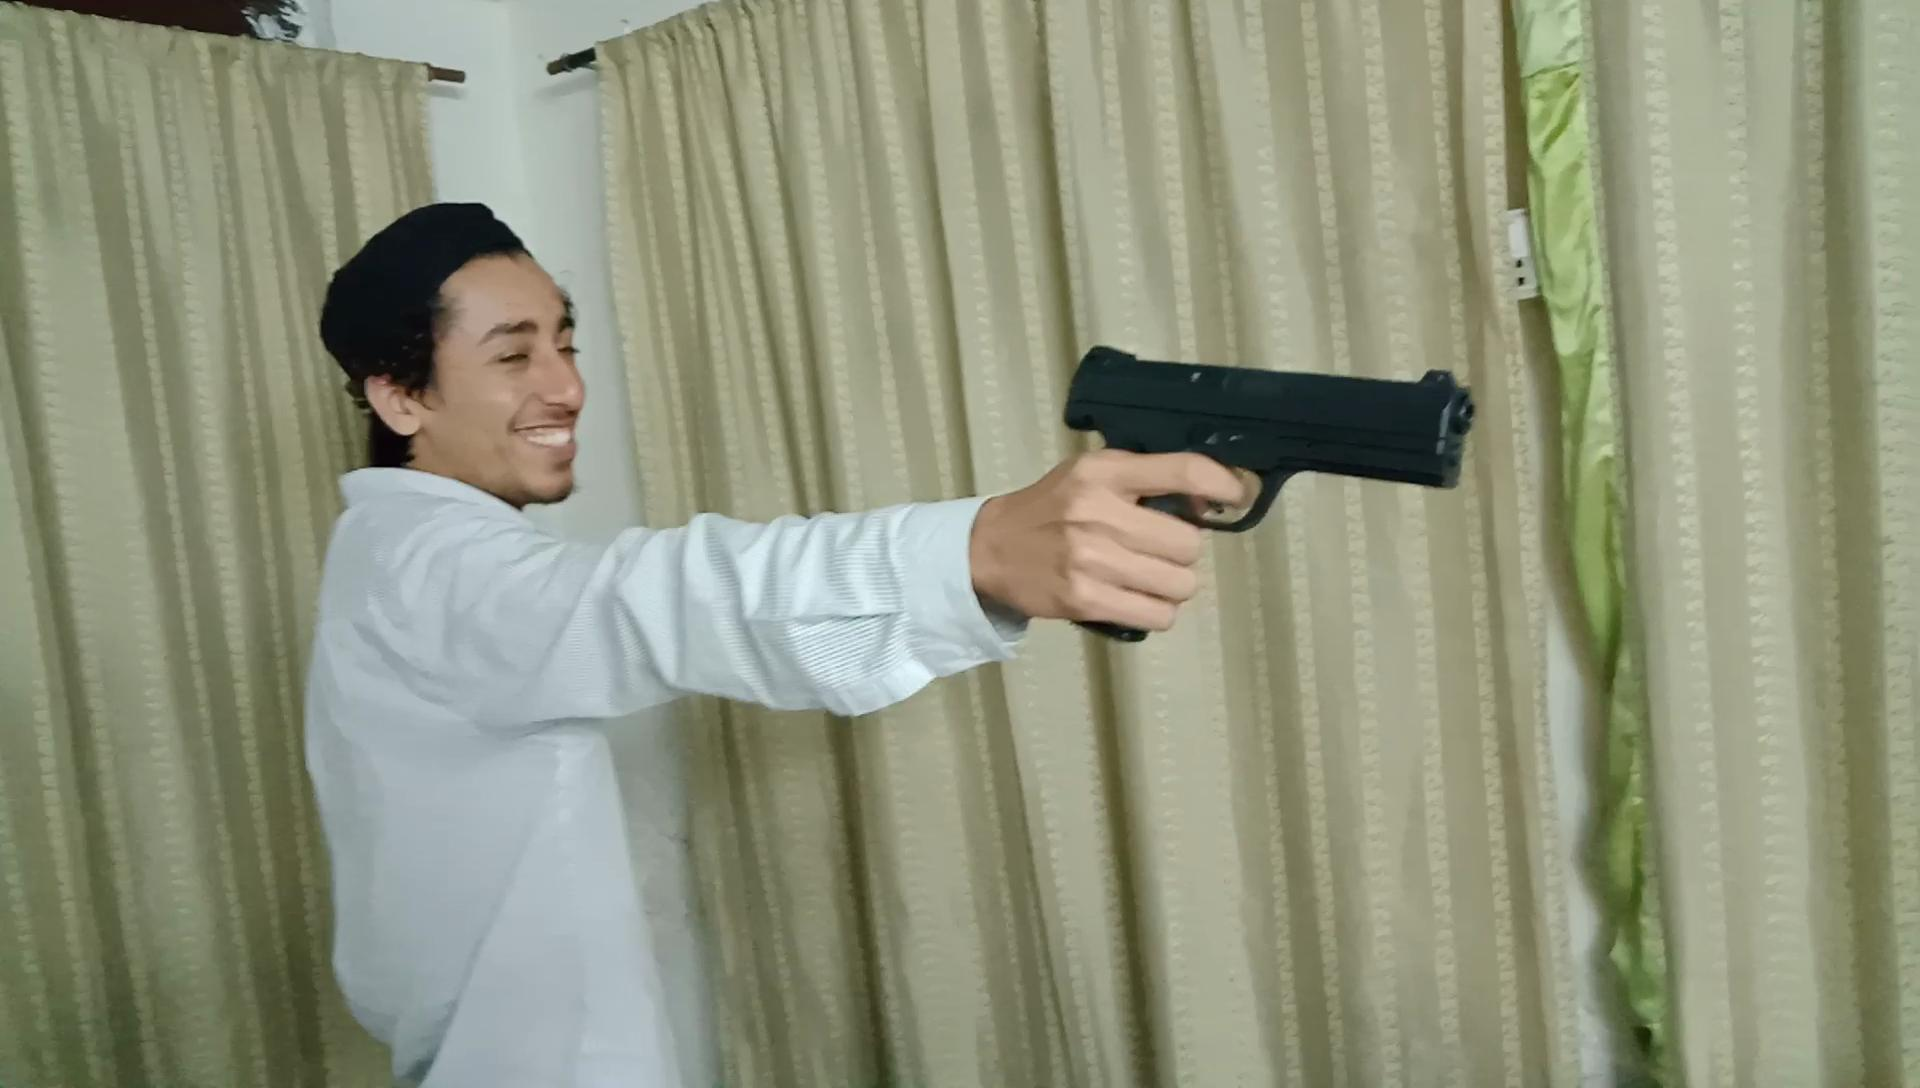criminal: (295, 193, 1480, 1088)
weapon: (1048, 334, 1481, 653)
